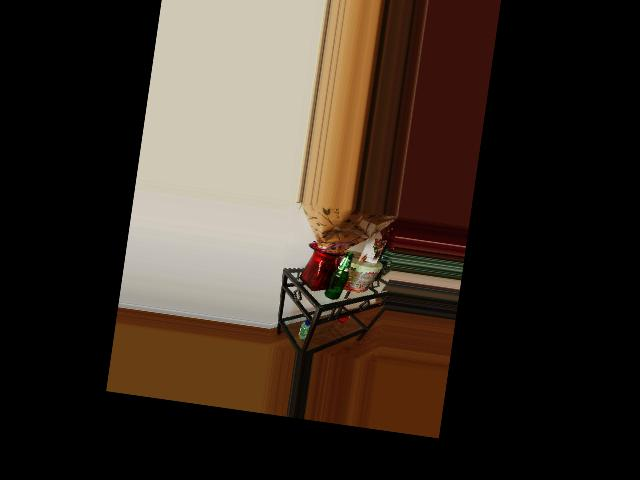beer: (324, 249, 353, 301)
